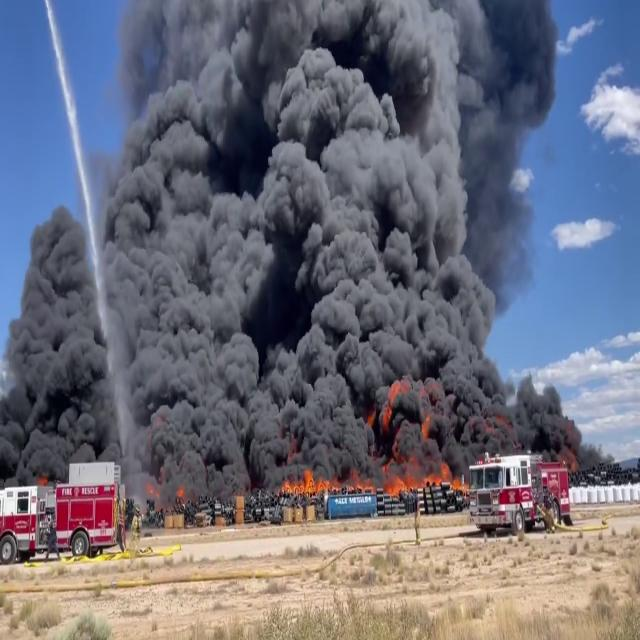Fire: (279, 462, 336, 498)
Smoke: (30, 0, 579, 467)
